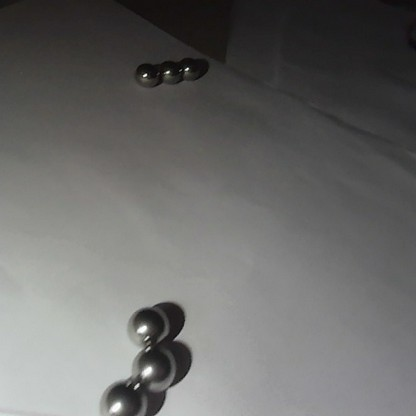ironball: (129, 346, 180, 394), (97, 378, 156, 414), (128, 306, 169, 348), (157, 55, 181, 83), (178, 56, 204, 80), (131, 61, 155, 86)
